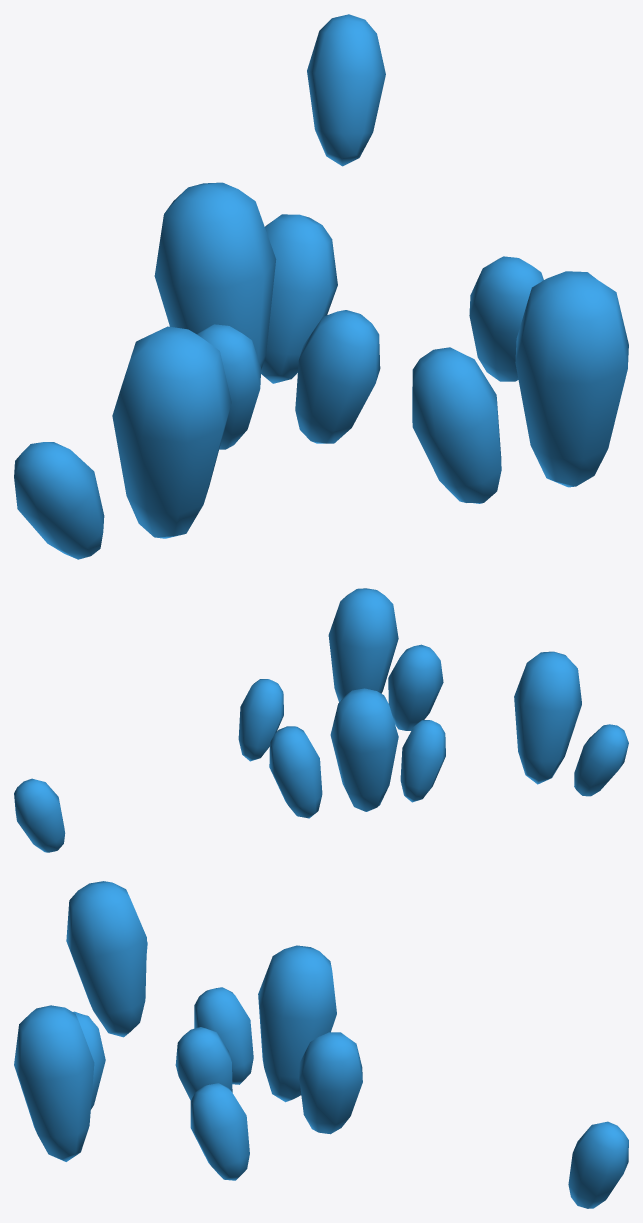
File: SM_Prop_Grass2.fbx
The picture shows the model from 3 angles, top to bottom: view 1: azimuth 30°, elevation 25°; view 2: azimuth 150°, elevation 25°; view 3: azimuth 270°, elevation 25°; orthographic projection. The views are drawn at different scales.
Visible parts, largest first — view 1: SM_Prop_Grass2; view 2: SM_Prop_Grass2; view 3: SM_Prop_Grass2.
Boxes of the visible parts, bbox=[...] form: SM_Prop_Grass2: bbox=[14, 14, 628, 559]; SM_Prop_Grass2: bbox=[14, 588, 628, 852]; SM_Prop_Grass2: bbox=[14, 881, 628, 1208].
Size of the model in its own units: 134 by 41.83 by 146.
